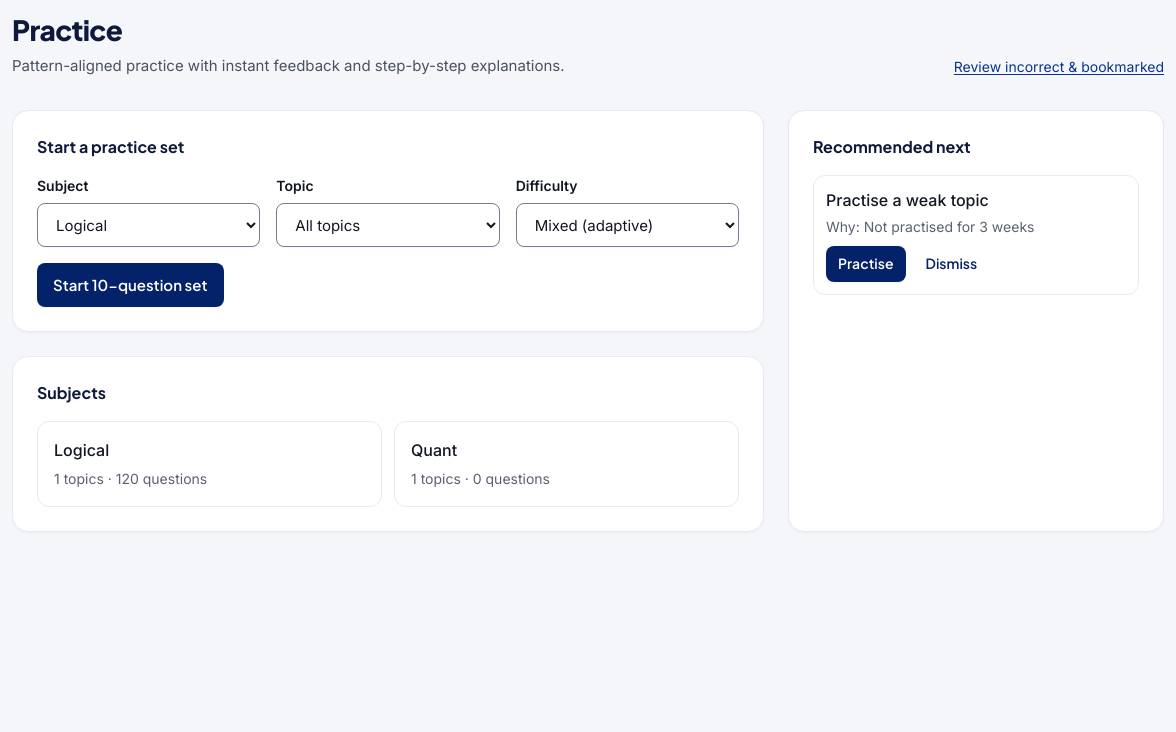
Test: PracticeHub (PRC-001) › dismisses a recommendation
Click the button "Dismiss".
click(951, 264)  # box [914,246,989,282]
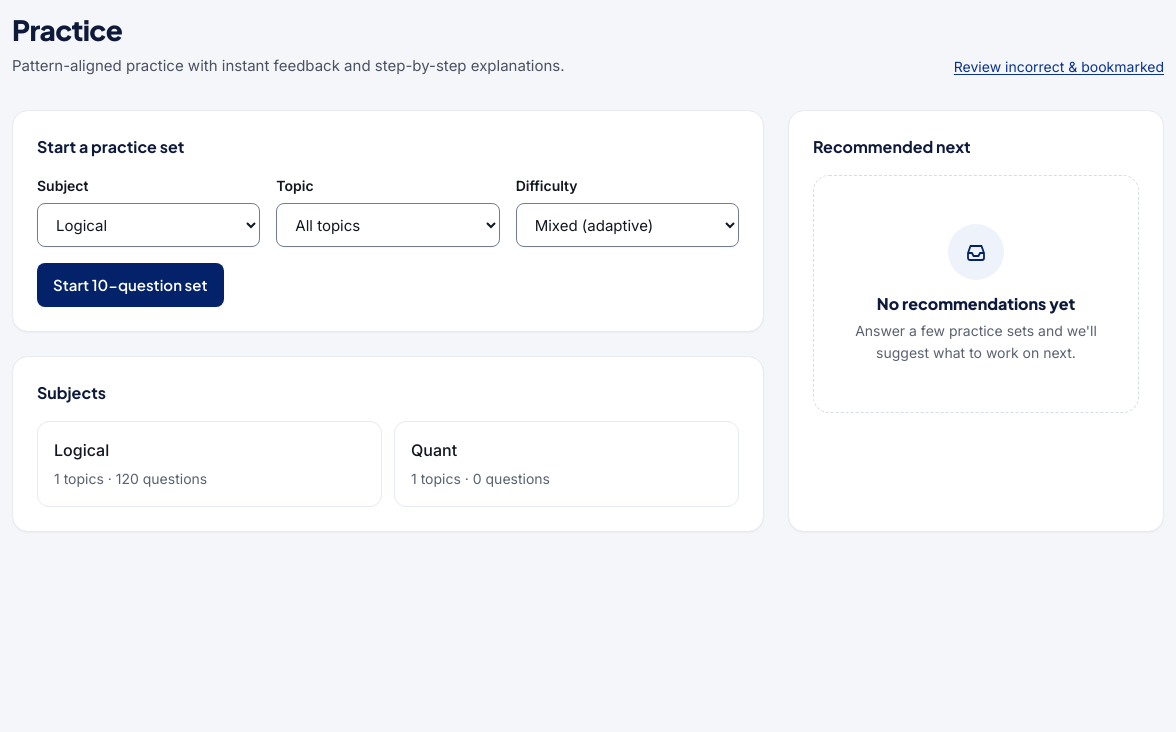
Result: the text "Why: Not practised for 3 weeks" is gone
